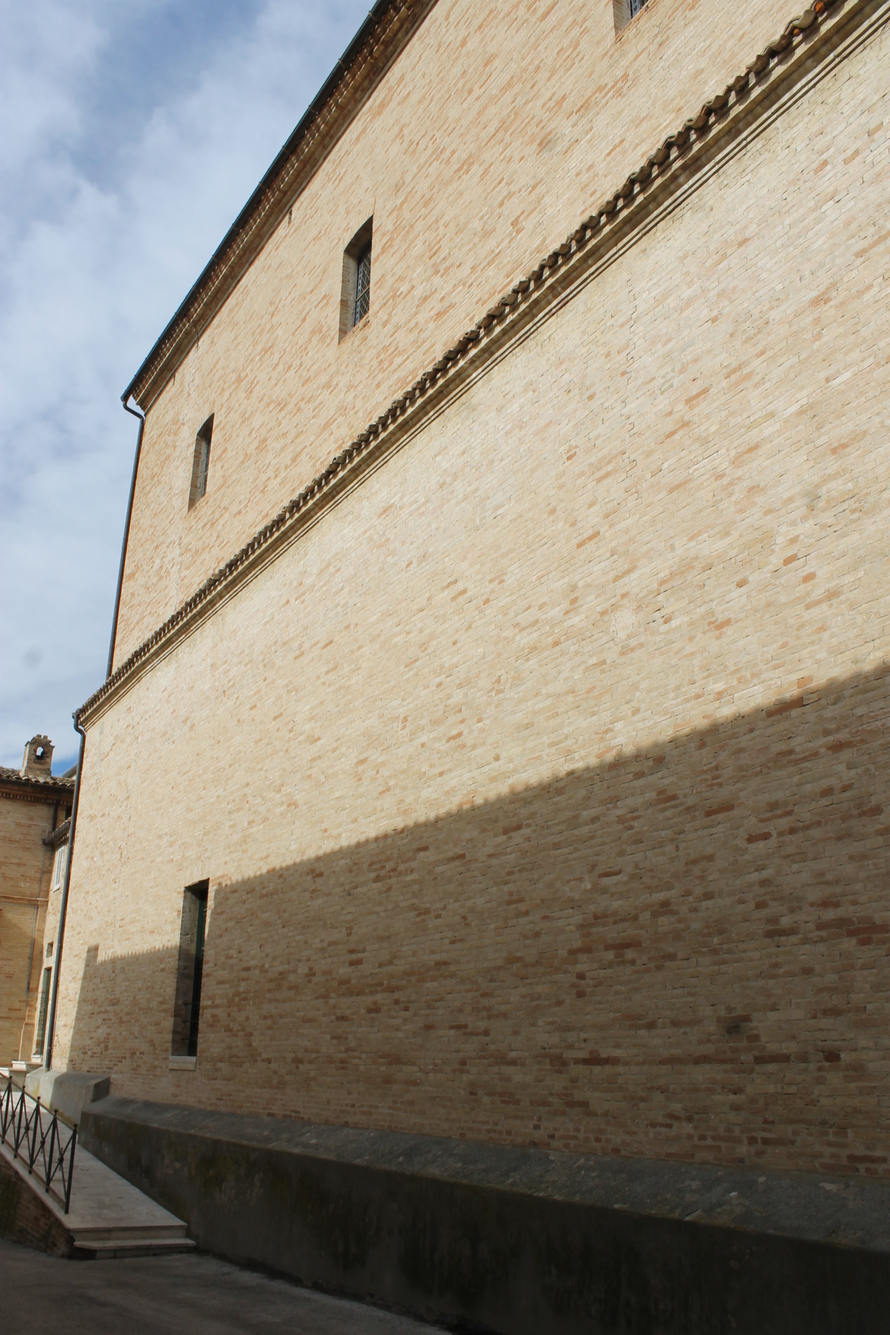Crack: (597, 254, 663, 526)
